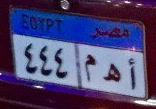4: (53, 45, 70, 81), (23, 39, 38, 75), (37, 43, 52, 78)
alif: (126, 57, 139, 92)
haa: (100, 62, 121, 86)
meem: (82, 51, 97, 84)
